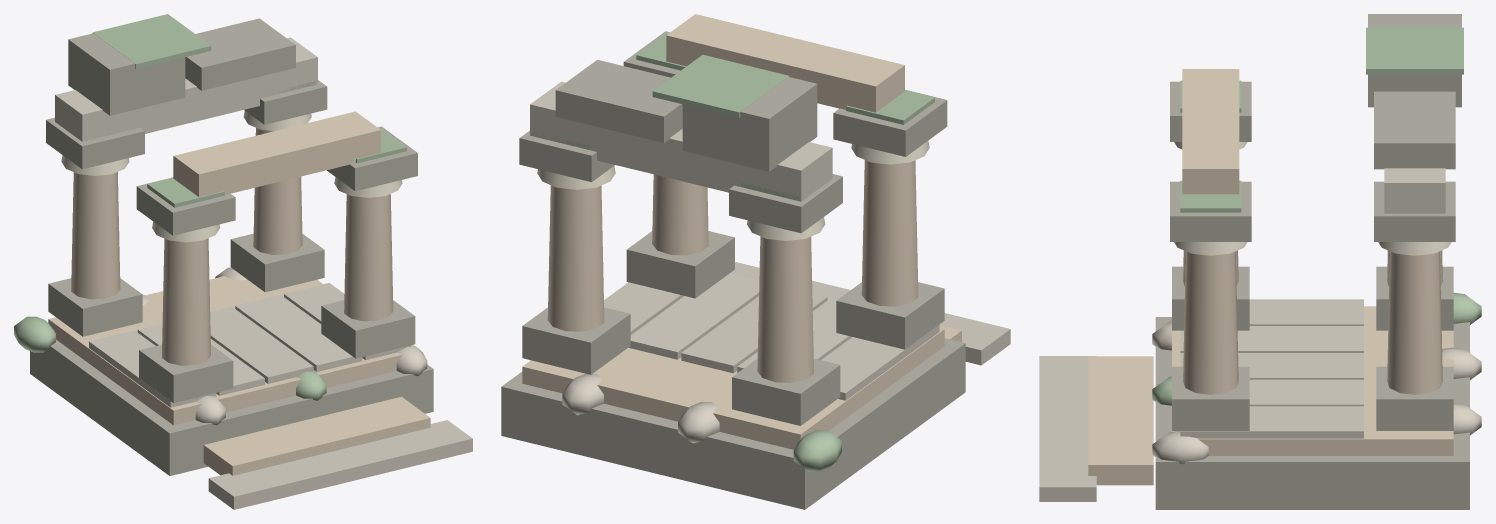
File: ruins.glb
3 renders of one model, left to right at view 1: azimuth 30°, elevation 25°; view 2: azimuth 150°, elevation 25°; view 3: azimuth 270°, elevation 25°, orthographic. The views are drawn at different scales.
Parts seen in each view (by area): view 1: MossTemple-stoneDark, MossTemple-sandstone, MossTemple-stone, MossTemple-plasterDark, MossTemple-moss, MossTemple-plaster; view 2: MossTemple-stoneDark, MossTemple-sandstone, MossTemple-plasterDark, MossTemple-stone, MossTemple-moss, MossTemple-plaster; view 3: MossTemple-stoneDark, MossTemple-sandstone, MossTemple-stone, MossTemple-plasterDark, MossTemple-moss, MossTemple-plaster.
Boxes of the visible parts, x1,y1,x2,y2 form: MossTemple-stoneDark: [30, 18, 433, 475]; MossTemple-sandstone: [48, 111, 430, 475]; MossTemple-stone: [89, 267, 472, 509]; MossTemple-plasterDark: [55, 37, 362, 395]; MossTemple-moss: [14, 14, 406, 400]; MossTemple-plaster: [61, 111, 402, 242]; MossTemple-stoneDark: [501, 31, 965, 509]; MossTemple-sandstone: [522, 14, 961, 449]; MossTemple-plasterDark: [530, 81, 851, 372]; MossTemple-stone: [562, 262, 1010, 443]; MossTemple-moss: [532, 32, 934, 471]; MossTemple-plaster: [537, 141, 929, 240]; MossTemple-stoneDark: [1155, 14, 1469, 509]; MossTemple-sandstone: [1088, 69, 1453, 485]; MossTemple-stone: [1039, 299, 1481, 501]; MossTemple-plasterDark: [1180, 168, 1445, 406]; MossTemple-moss: [1152, 27, 1481, 405]; MossTemple-plaster: [1174, 142, 1451, 255].
Bounding box in the file's own units: 0.9046 × 1 × 1.08.
